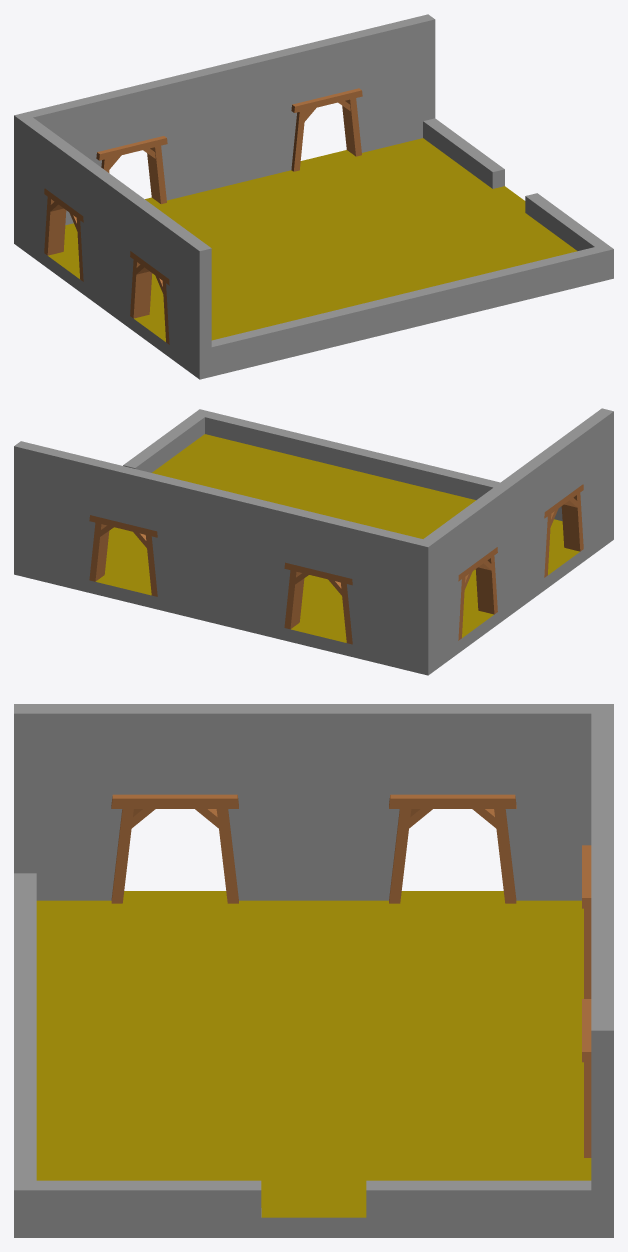
File: salaMedianaCuatroPuertas.fbx
3 views of the same model, one above another, from view 1: azimuth 30°, elevation 25°; view 2: azimuth 150°, elevation 25°; view 3: azimuth 270°, elevation 25° (orthographic). The views are drawn at different scales.
Visible parts, largest first — view 1: group_1, group_2, group_3, group_4, group_0, group_5; view 2: group_1, group_2, group_3, group_4, group_0, group_5; view 3: group_2, group_1, group_0, group_5, group_3, group_4.
Part boxes in pixels (left/top/right/bottom): group_1: left=14, top=14, right=613, bottom=379; group_2: left=48, top=138, right=577, bottom=341; group_3: left=291, top=88, right=362, bottom=171; group_4: left=96, top=136, right=167, bottom=204; group_0: left=130, top=251, right=169, bottom=344; group_5: left=44, top=188, right=83, bottom=281; group_1: left=14, top=408, right=613, bottom=675; group_2: left=96, top=434, right=579, bottom=642; group_3: left=89, top=515, right=157, bottom=596; group_4: left=284, top=562, right=352, bottom=644; group_0: left=544, top=484, right=583, bottom=577; group_5: left=458, top=547, right=497, bottom=640; group_2: left=36, top=891, right=591, bottom=1217; group_1: left=14, top=704, right=613, bottom=1237; group_0: left=111, top=794, right=238, bottom=903; group_5: left=389, top=794, right=516, bottom=903; group_3: left=582, top=999, right=591, bottom=1157; group_4: left=582, top=845, right=591, bottom=998.
Size of the model in its own units: 2060 by 610 by 1600.
